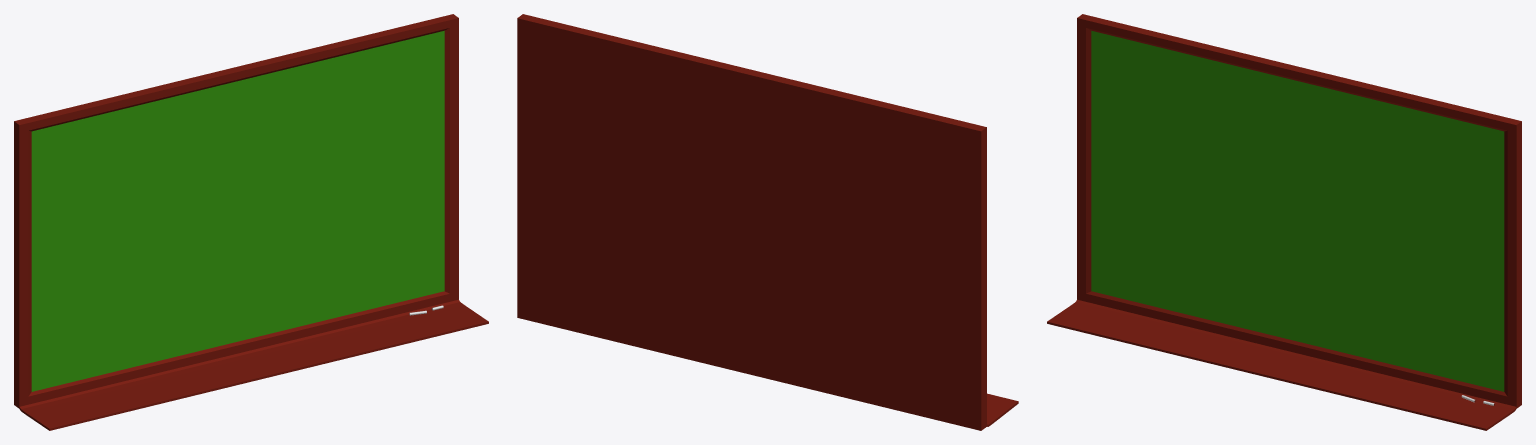
File: ChalkBoard.fbx
3 renders of one model, left to right at view 1: azimuth 30°, elevation 25°; view 2: azimuth 150°, elevation 25°; view 3: azimuth 330°, elevation 25°, orthographic. The views are drawn at different scales.
Visible parts, largest first — view 1: Cube; view 2: Cube; view 3: Cube.
Boxes of the visible parts, <box> form: Cube: <box>14,14,488,430</box>; Cube: <box>517,14,1018,430</box>; Cube: <box>1047,14,1521,430</box>.
Size of the model in its own units: 24.97 by 110 by 178.
